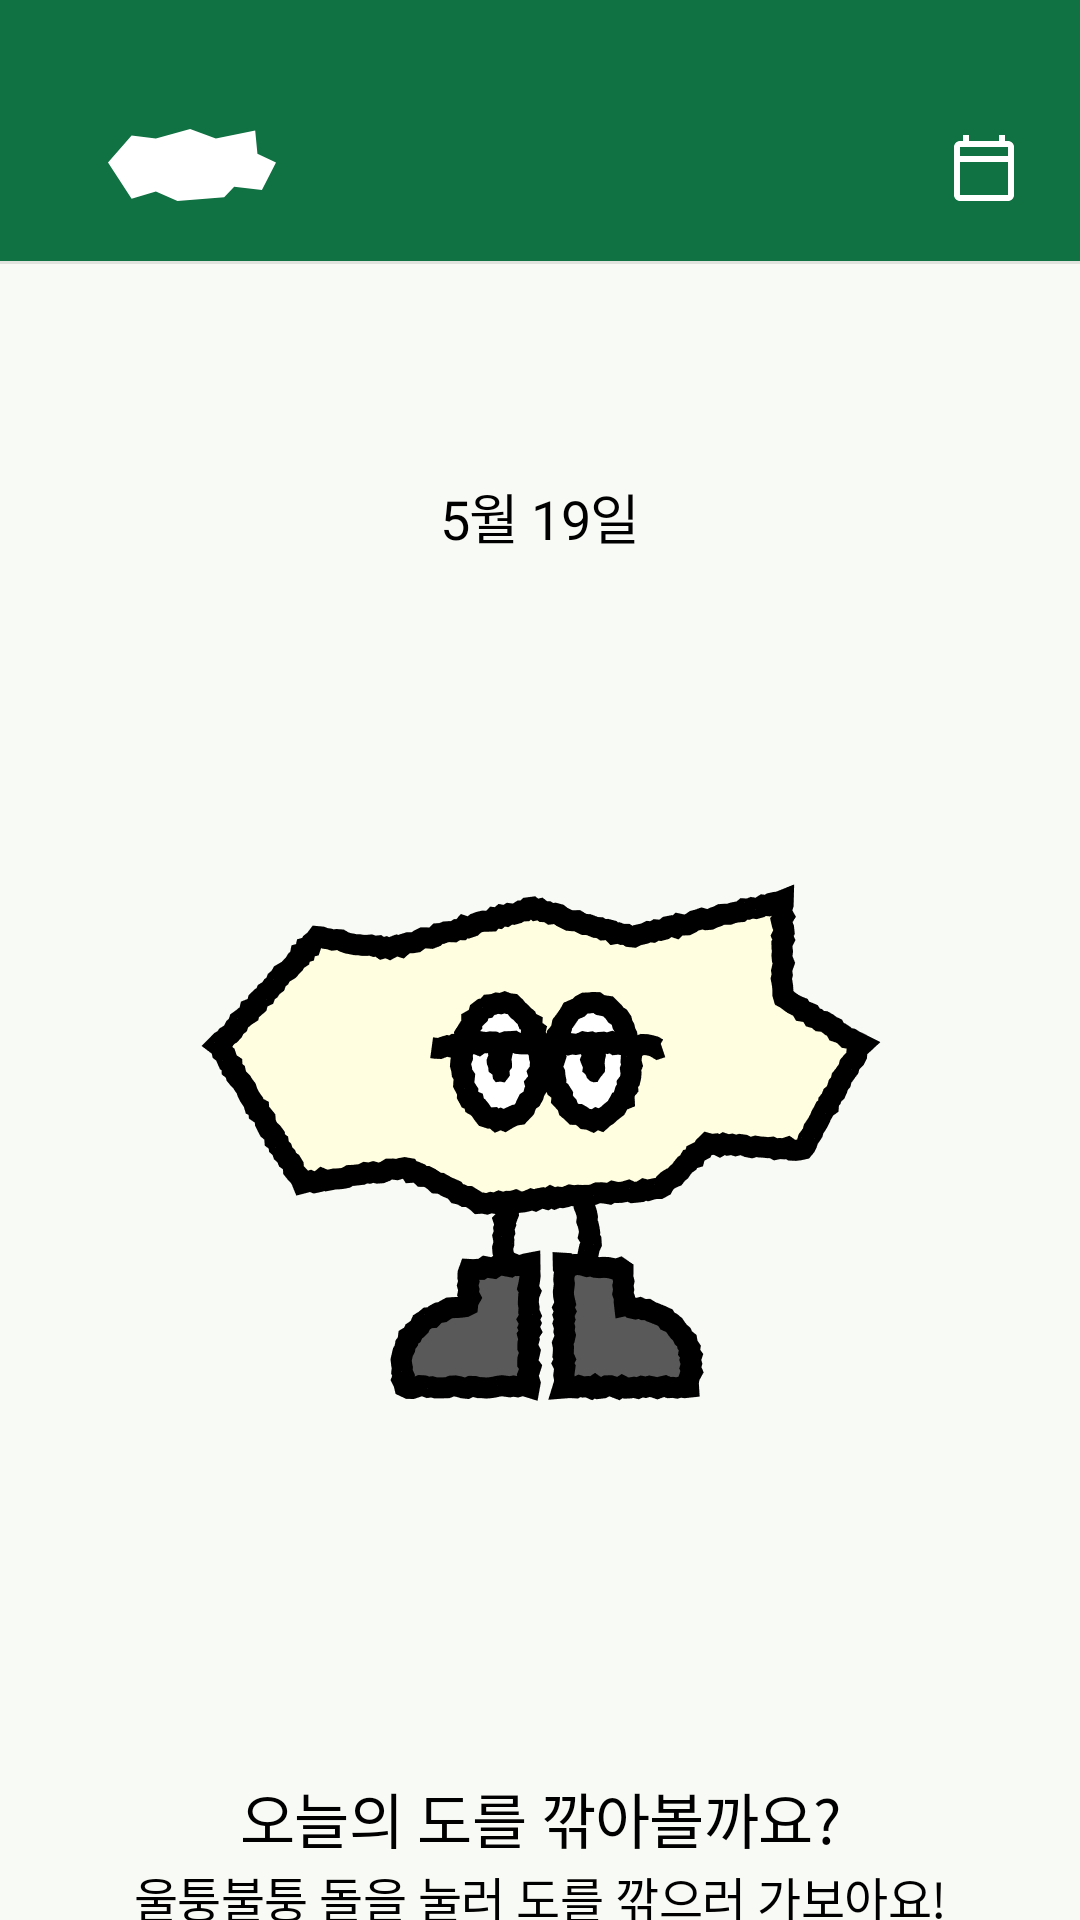

Icon bounding boxes for this 1080x1920 phone screenshot, format (x1, y1, x2, y2):
calendar: (954, 135, 1014, 201)
